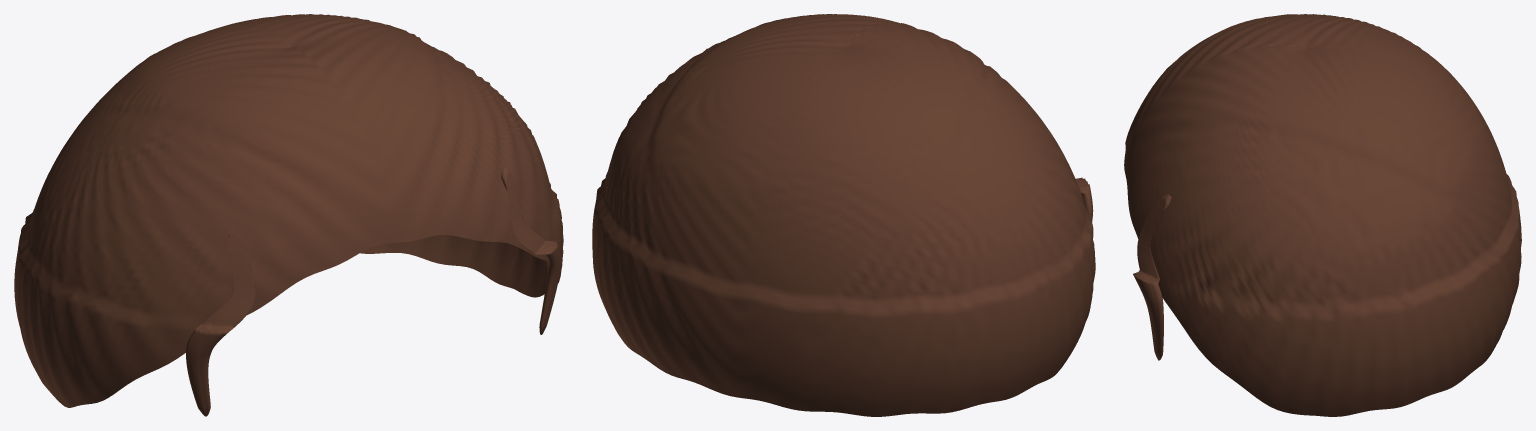
Rendered from Feminine-space-buns-beanie251-hair.glb.
The picture shows the model from 3 angles, left to right: view 1: azimuth 30°, elevation 25°; view 2: azimuth 150°, elevation 25°; view 3: azimuth 270°, elevation 25°; orthographic projection. The views are drawn at different scales.
Visible parts, largest first — view 1: 226 hair / Hair / chestnut226.002; view 2: 226 hair / Hair / chestnut226.002; view 3: 226 hair / Hair / chestnut226.002.
Boxes of the visible parts, bbox=[...] form: 226 hair / Hair / chestnut226.002: bbox=[14, 14, 563, 416]; 226 hair / Hair / chestnut226.002: bbox=[592, 14, 1095, 416]; 226 hair / Hair / chestnut226.002: bbox=[1124, 14, 1521, 416].
Bounding box in the file's own units: 0.9988 × 0.599 × 0.7845.
